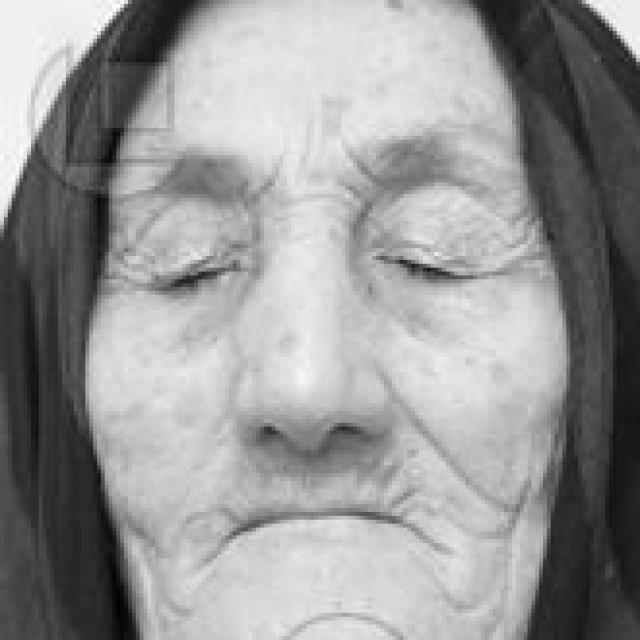real: (81, 60, 572, 622), (122, 182, 512, 310)
